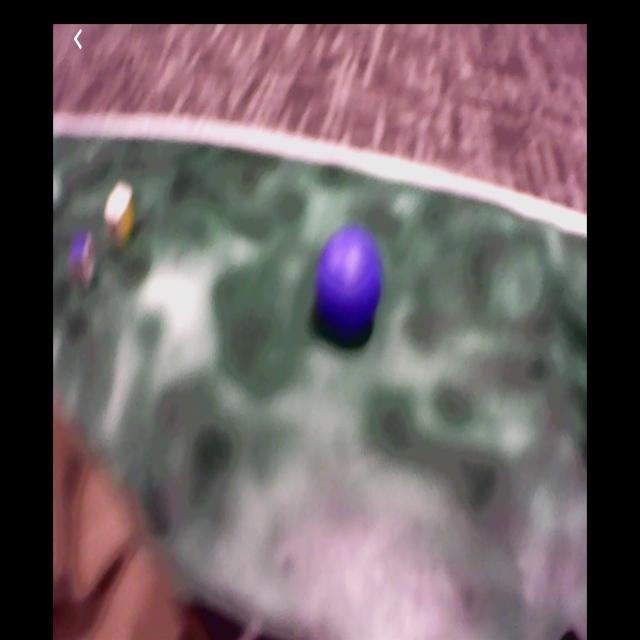ball: (317, 229, 381, 332)
